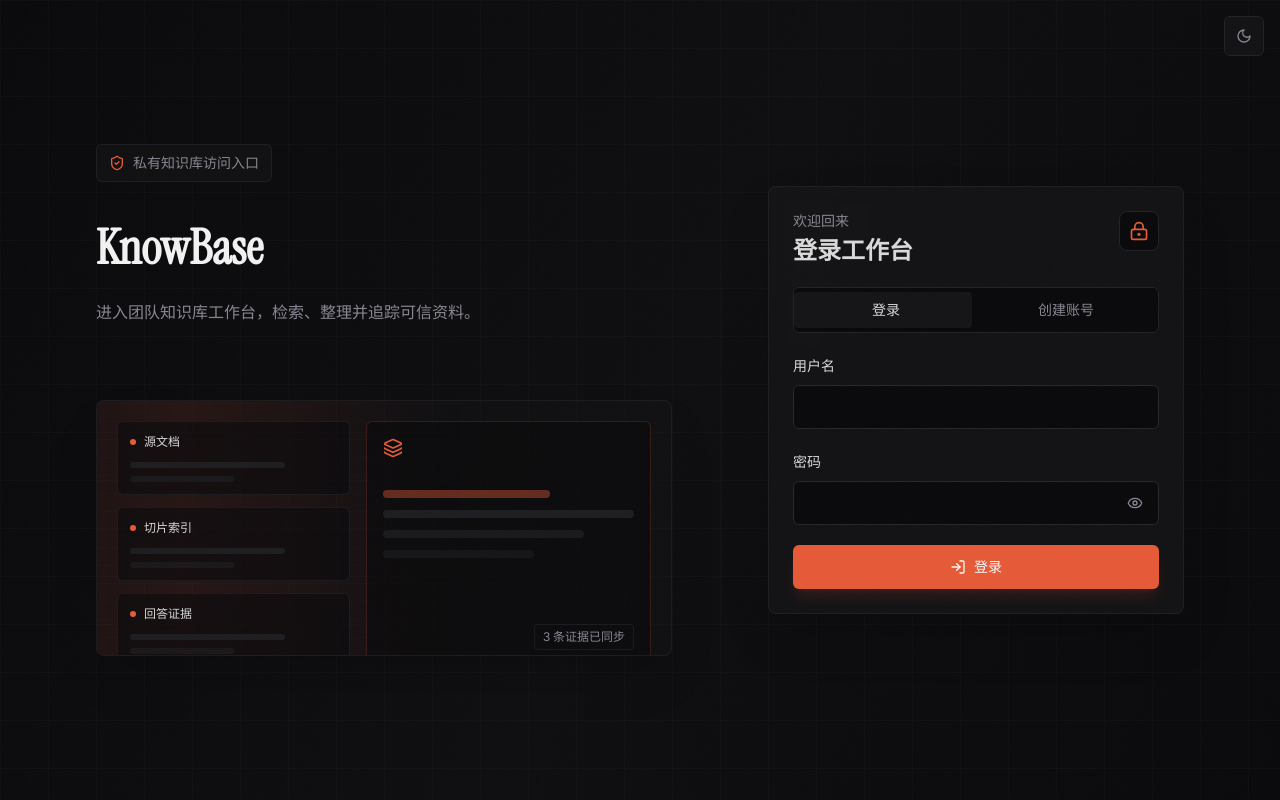
Test: App component › blocks registration when password confirmation does not match
Click the button with aria-label "切换到注册模式": (1066, 310) [978,292,1154,328]
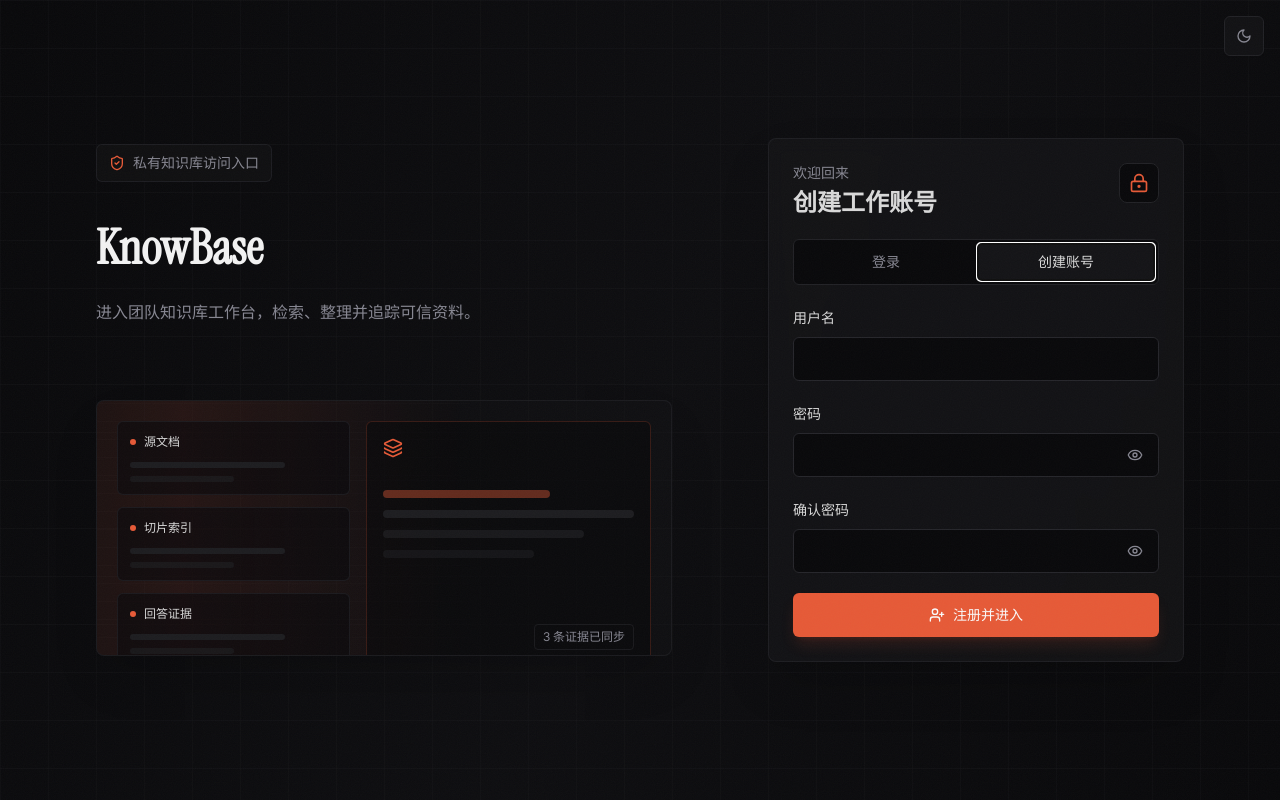
In the field labelled "用户名": (976, 359) [793,337,1159,381], type "alice"
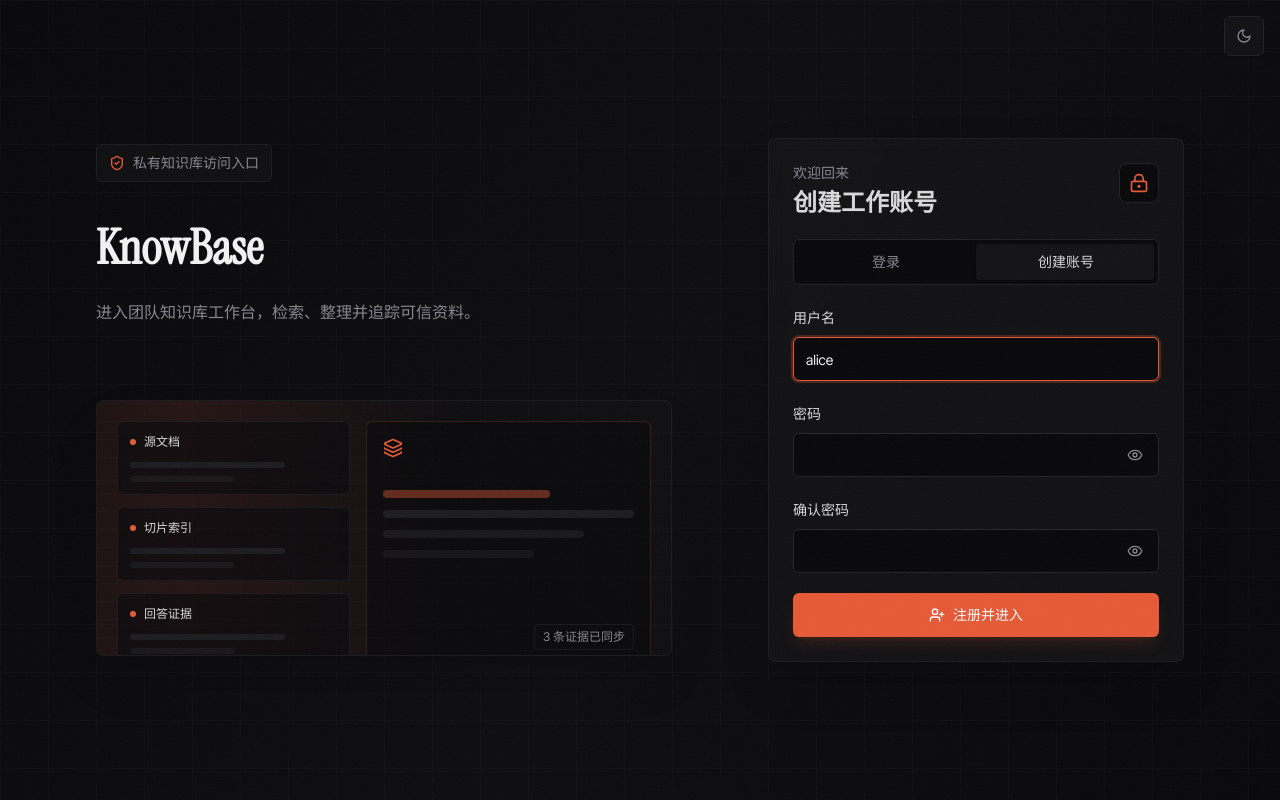
In the password field labelled "密码": (976, 455) [793,433,1159,477], type "alice-pass"
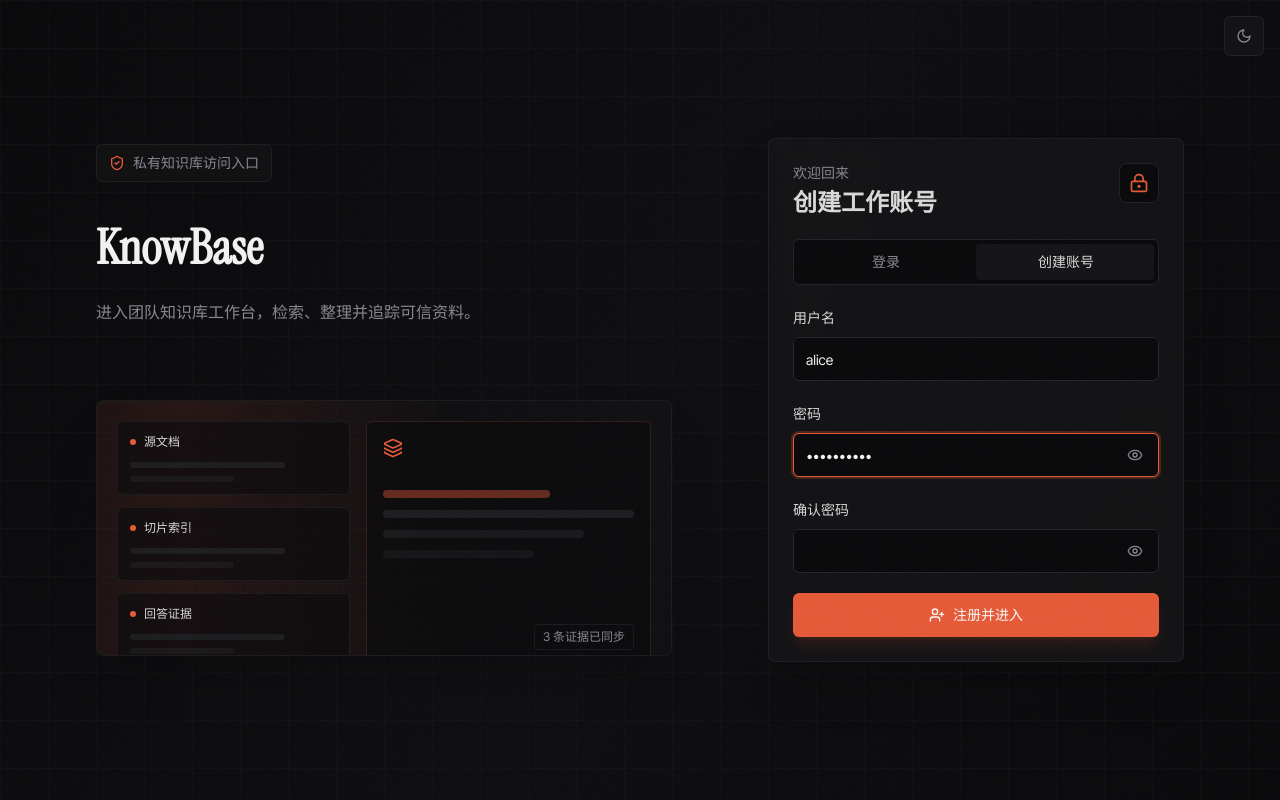
In the password field labelled "确认密码": (976, 551) [793,529,1159,573], type "other-pass"
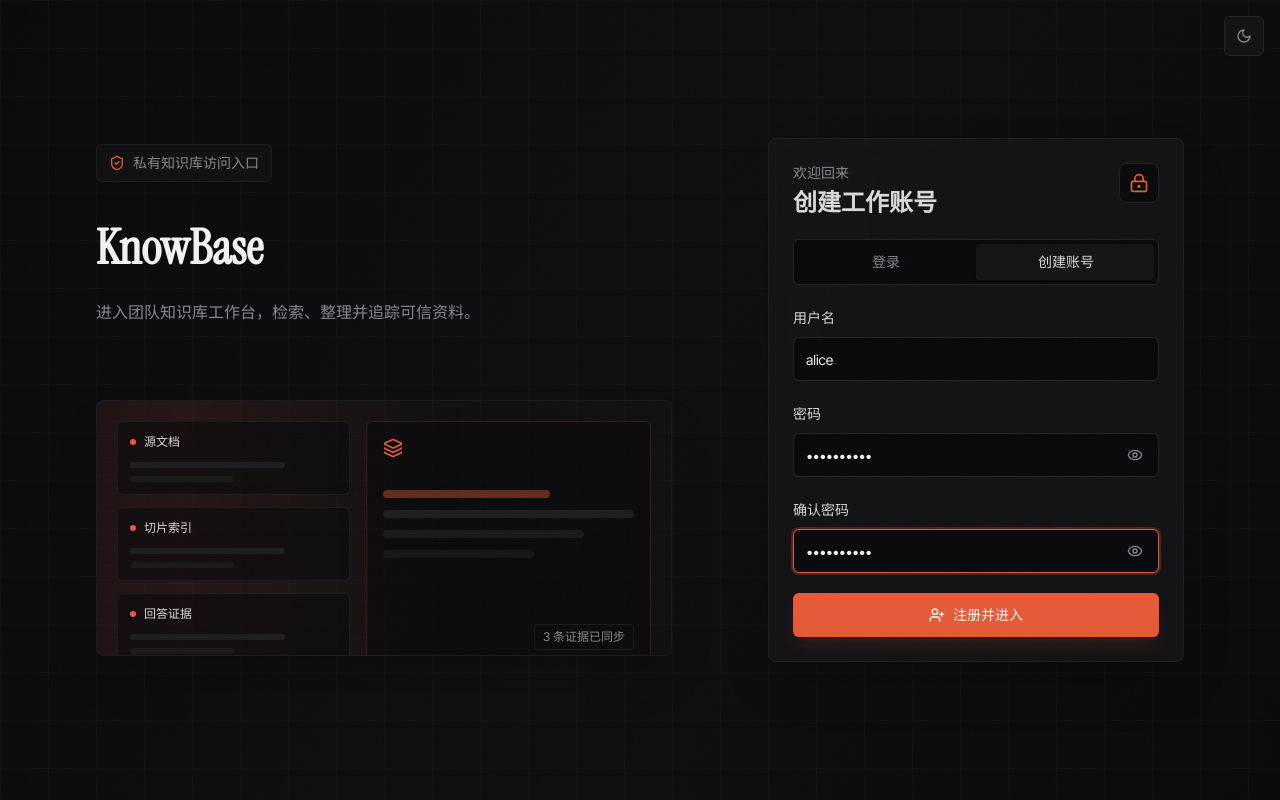
Click the button "注册并进入": (976, 615) [793,593,1159,637]
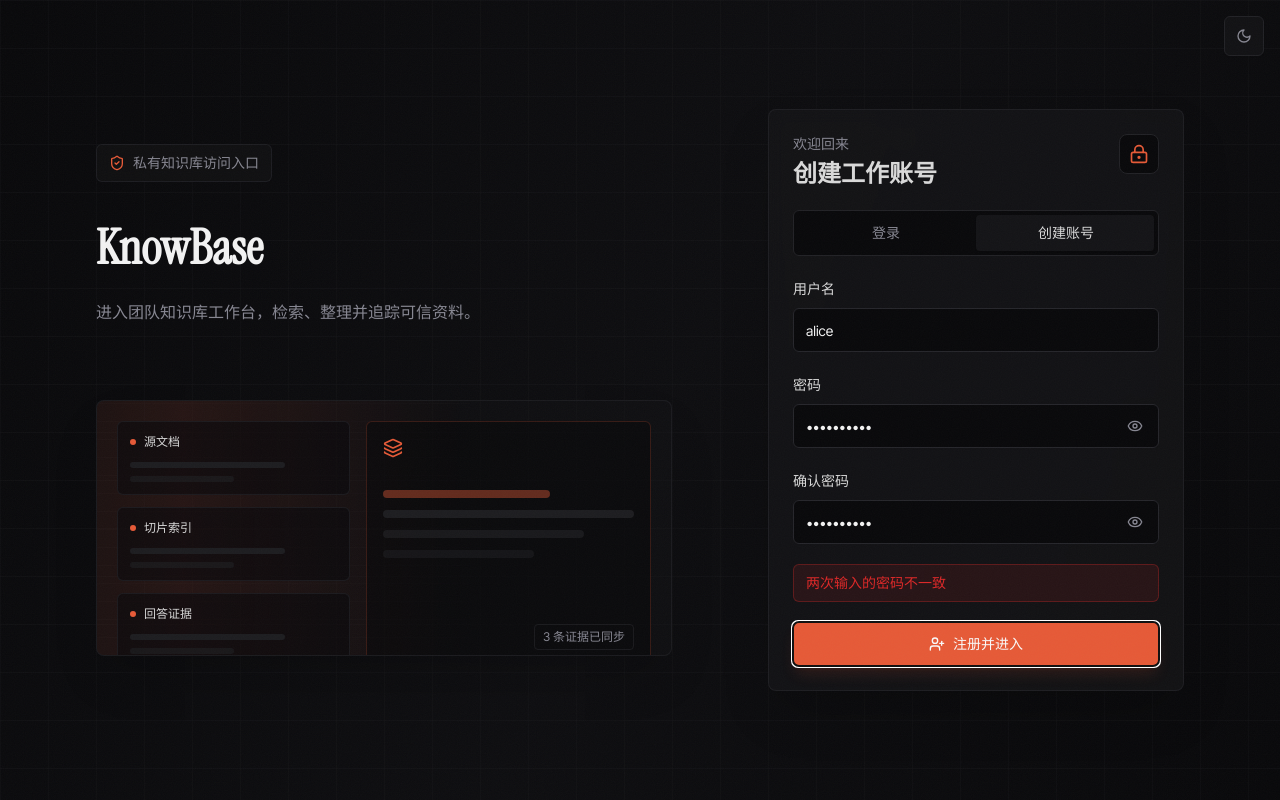
Now the message reads "两次输入的密码不一致", box [806,574,946,591]
